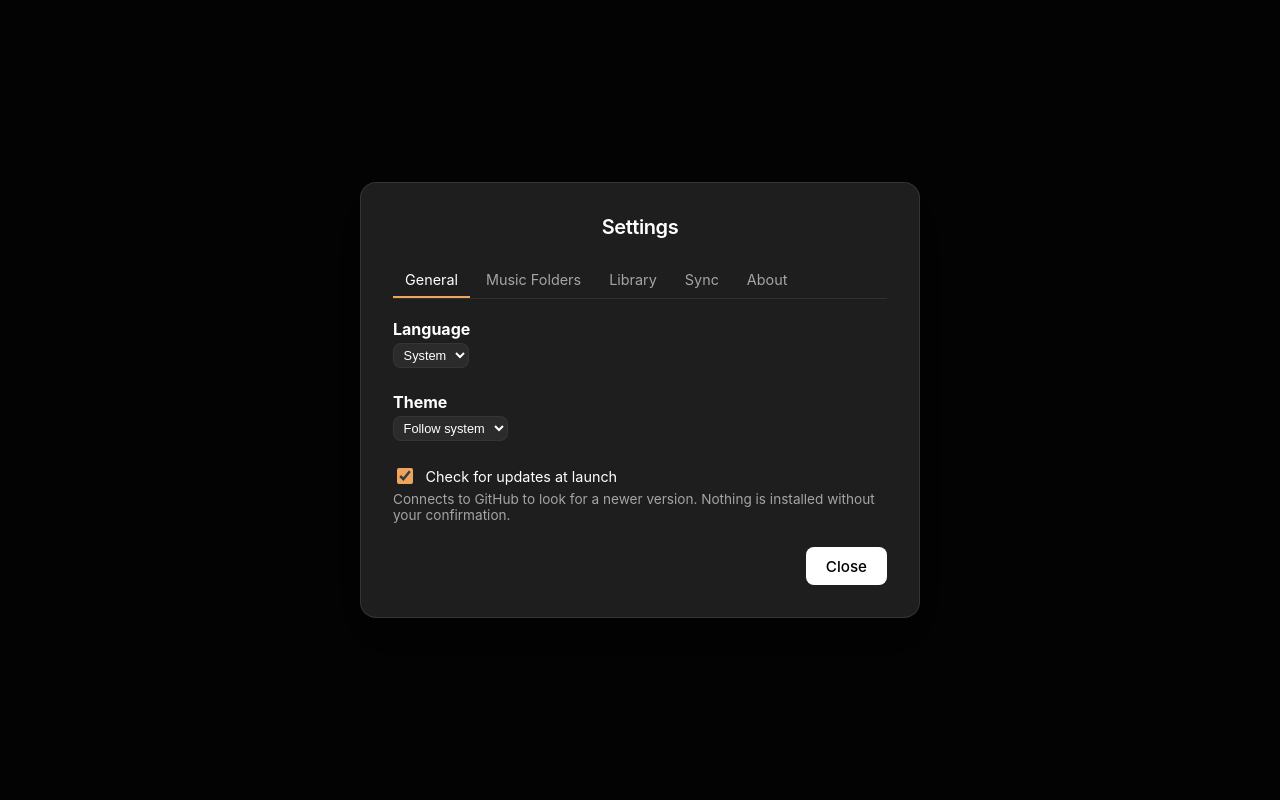
Test: SettingsModal backup section › disables the backup buttons while a scan/import is in progress
Click the tab "Library" at {"x": 633, "y": 280}, box [597,262,669,298]
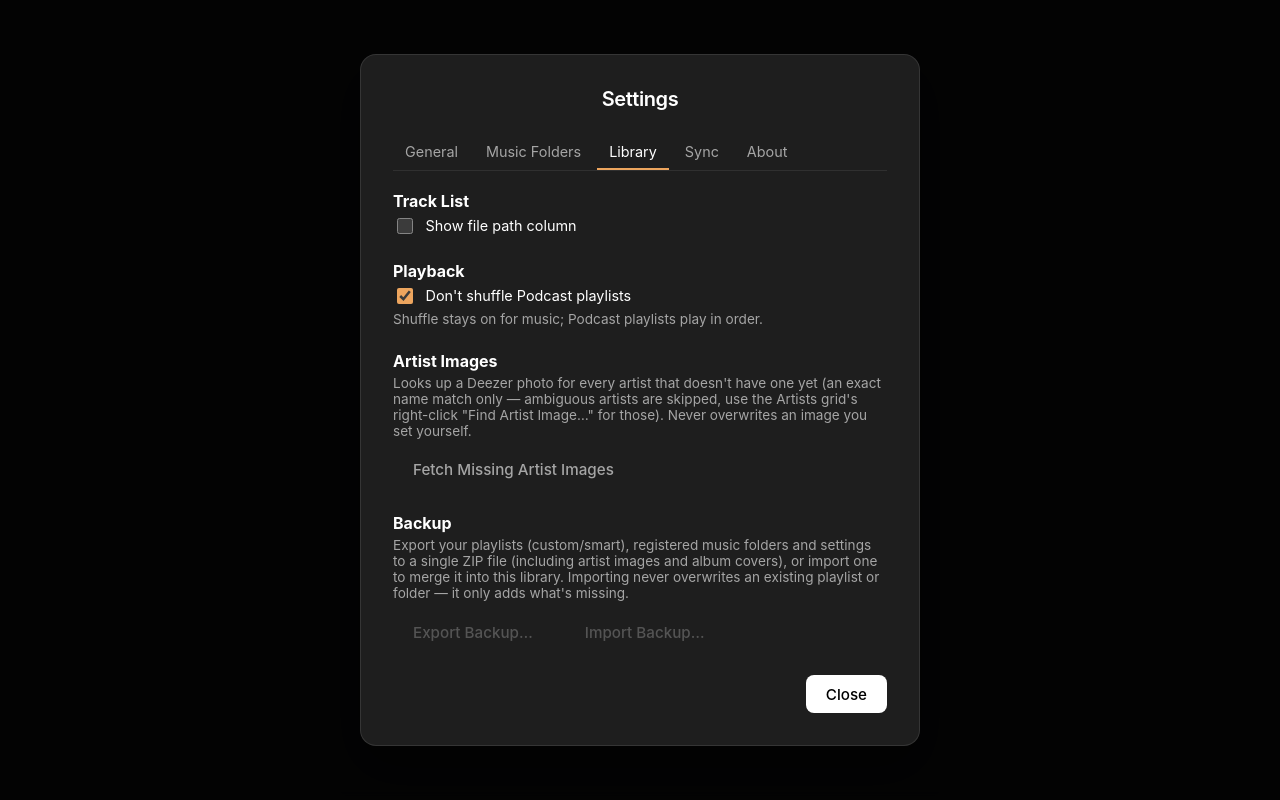
Expected: the button "Export Backup…" is disabled, [393,613,553,651]
Expected: the button "Import Backup…" is disabled, [565,613,725,651]
